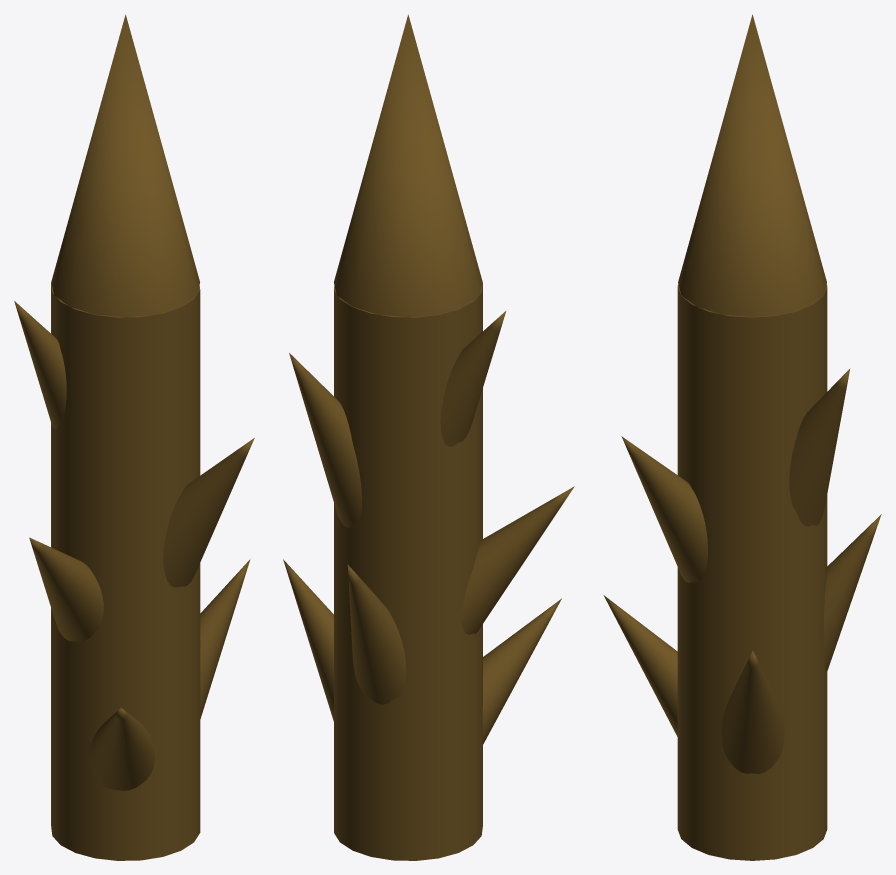
Rendered from PiqueFinal.fbx.
The picture shows the model from 3 angles, left to right: view 1: azimuth 30°, elevation 25°; view 2: azimuth 150°, elevation 25°; view 3: azimuth 270°, elevation 25°; orthographic projection.
Parts seen in each view (by area): view 1: pCylinder1, pCone1, nurbsCone5, nurbsCone7, nurbsCone6, nurbsCone1, nurbsCone4; view 2: pCylinder1, pCone1, nurbsCone7, nurbsCone2, nurbsCone3, nurbsCone1, nurbsCone6, nurbsCone4; view 3: pCylinder1, pCone1, nurbsCone4, nurbsCone5, nurbsCone3, nurbsCone6, nurbsCone2.
Part boxes in pixels (x1,y1,x2,y2): pCylinder1: [51, 283, 200, 860]; pCone1: [51, 14, 199, 317]; nurbsCone5: [163, 438, 254, 587]; nurbsCone7: [29, 537, 103, 641]; nurbsCone6: [89, 707, 154, 790]; nurbsCone1: [14, 301, 66, 428]; nurbsCone4: [200, 559, 250, 718]; pCylinder1: [334, 283, 482, 860]; pCone1: [334, 14, 482, 317]; nurbsCone7: [462, 486, 574, 634]; nurbsCone2: [347, 564, 406, 704]; nurbsCone3: [289, 353, 362, 527]; nurbsCone1: [440, 311, 506, 446]; nurbsCone6: [482, 598, 561, 744]; nurbsCone4: [283, 559, 333, 721]; pCylinder1: [677, 284, 827, 860]; pCone1: [678, 14, 826, 317]; nurbsCone4: [721, 650, 784, 773]; nurbsCone5: [621, 436, 707, 582]; nurbsCone3: [789, 368, 850, 526]; nurbsCone6: [603, 595, 677, 736]; nurbsCone2: [823, 514, 881, 672].
Bounding box in the file's own units: 0.9892 × 3 × 0.9289.
